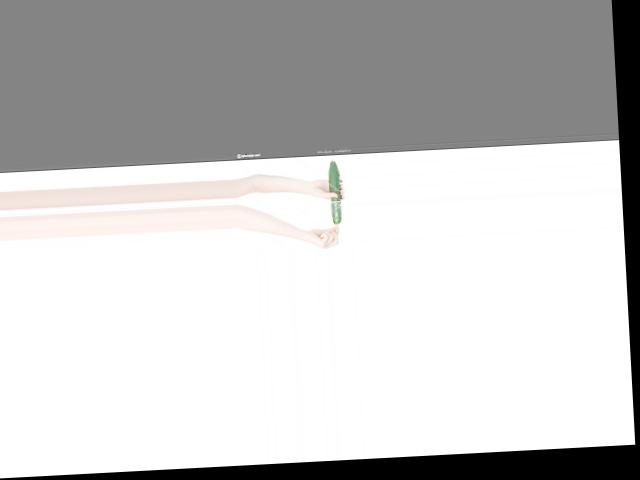cucumber: (329, 158, 342, 224)
